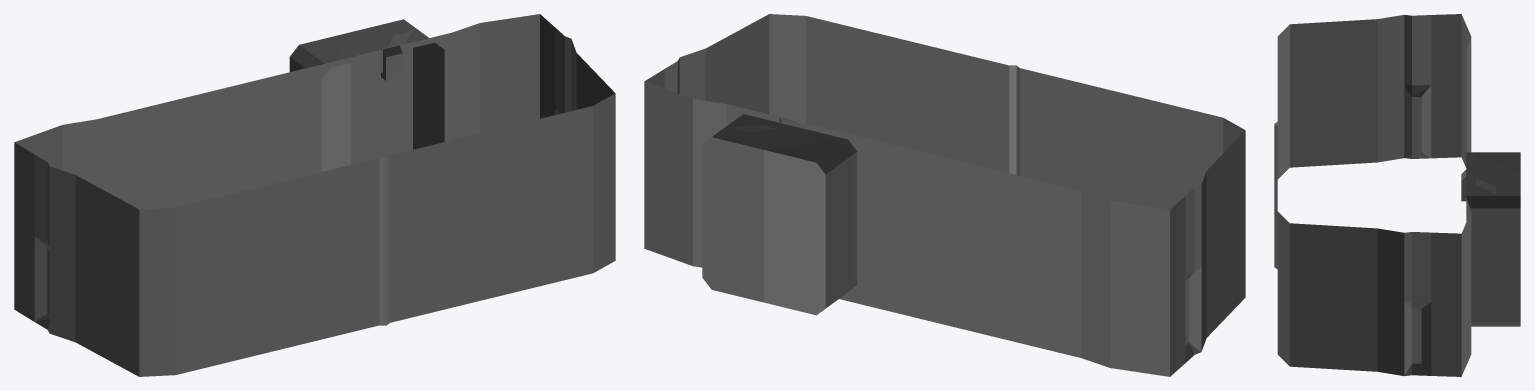
The picture shows the model from 3 angles, left to right: view 1: azimuth 30°, elevation 25°; view 2: azimuth 150°, elevation 25°; view 3: azimuth 270°, elevation 25°; orthographic projection. The views are drawn at different scales.
Visible parts, largest first — view 1: group_13; view 2: group_13; view 3: group_13.
Part boxes in pixels (x1,y1,x2,y2): group_13: (14,14,615,376); group_13: (644,14,1245,376); group_13: (1274,14,1520,376).
Size of the model in its own units: 13454 by 4096 by 6374.
Materials: 1 (1 with a texture image).
